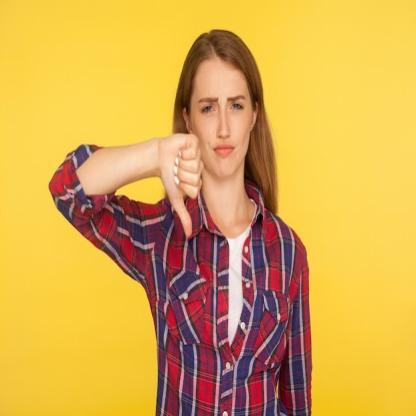thumb_down: (154, 128, 203, 240)
